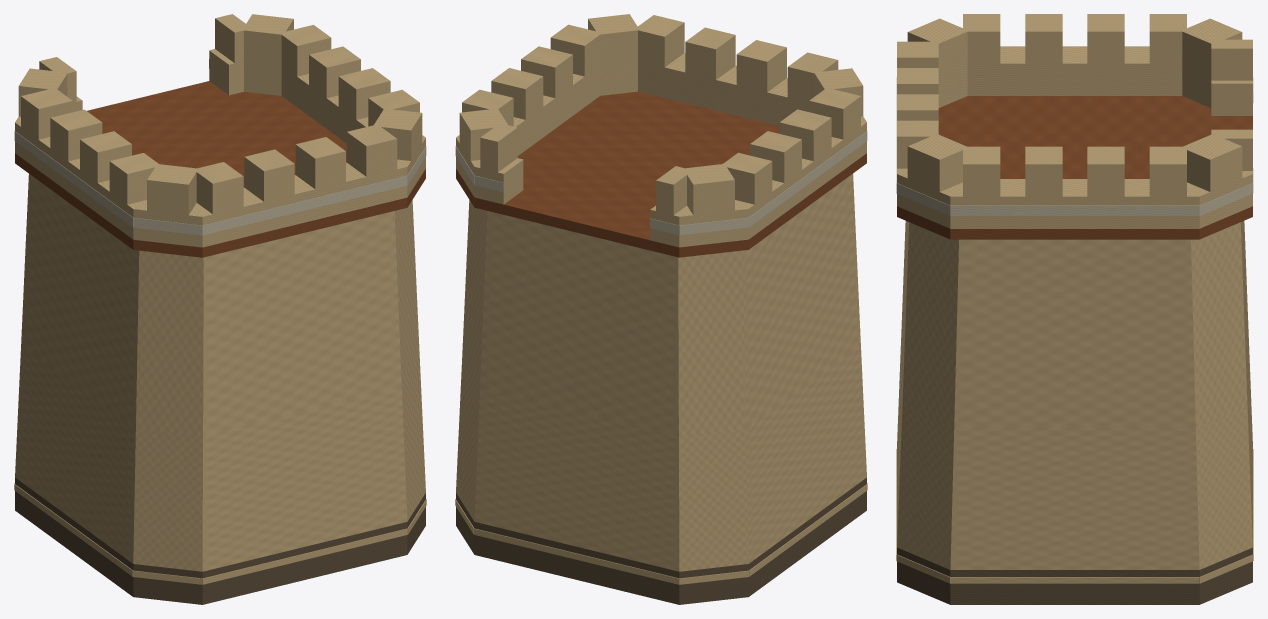
File: Berber_Bastion_Age3_end.fbx
3 views of the same model, side by side, from view 1: azimuth 30°, elevation 25°; view 2: azimuth 150°, elevation 25°; view 3: azimuth 270°, elevation 25° (orthographic). The views are drawn at different scales.
Parts seen in each view (by area): view 1: end_battered_upper, end_battered_lower, end_continuous_walk_floor, end_stone_foot, end_guard_0_0, end_guard_6_0, end_guard_2_0, end_owner_band_0_0, end_guard_7_0, end_merlon_0_0_1, end_merlon_0_0_3, end_merlon_0_0_2 (+34 smaller); view 2: end_battered_upper, end_battered_lower, end_continuous_walk_floor, end_stone_foot, end_guard_0_0, end_guard_6_0, end_guard_2_0, end_guard_5_0, end_merlon_0_0_2, end_merlon_0_0_1, end_foundation_bond_4, end_merlon_0_0_3 (+35 smaller); view 3: end_battered_upper, end_battered_lower, end_continuous_walk_floor, end_stone_foot, end_guard_6_0, end_guard_2_0, end_owner_band_2_0, end_merlon_3_0_0, end_merlon_1_0_0, end_foundation_bond_2, end_guard_4_1, end_guard_1_0 (+33 smaller).
Part boxes in pixels (x1,y1,x2,y2): end_battered_upper: (21,174,419,436); end_battered_lower: (15,345,425,571); end_continuous_walk_floor: (15,81,425,257); end_stone_foot: (15,477,425,604); end_guard_0_0: (192,160,407,247); end_guard_6_0: (15,122,146,239); end_guard_2_0: (281,65,425,143); end_owner_band_0_0: (202,175,407,235); end_guard_7_0: (133,200,206,247); end_merlon_0_0_1: (244,159,294,201); end_merlon_0_0_3: (346,132,397,176); end_merlon_0_0_2: (295,145,345,189); end_battered_upper: (462,174,860,436); end_battered_lower: (456,345,866,571); end_continuous_walk_floor: (456,91,866,257); end_stone_foot: (456,477,866,604); end_guard_0_0: (638,53,809,125); end_guard_6_0: (735,121,866,239); end_guard_2_0: (456,65,600,155); end_guard_5_0: (679,200,748,247); end_merlon_0_0_2: (685,35,735,79); end_merlon_0_0_1: (736,48,786,92); end_foundation_bond_4: (474,528,679,584); end_merlon_0_0_3: (638,23,684,67); end_battered_upper: (902,221,1247,427); end_battered_lower: (897,312,1252,569); end_continuous_walk_floor: (897,96,1252,239); end_stone_foot: (897,547,1252,604); end_guard_6_0: (967,46,1182,95); end_guard_2_0: (950,179,1199,228); end_owner_band_2_0: (950,205,1199,215); end_merlon_3_0_0: (1187,147,1242,191); end_merlon_1_0_0: (907,148,962,191); end_foundation_bond_2: (950,577,1199,583); end_guard_4_1: (1211,80,1252,115); end_guard_1_0: (897,170,962,228).
Bounding box in the file's own units: 603 × 820 × 603.
4 materials, 4 textured.
